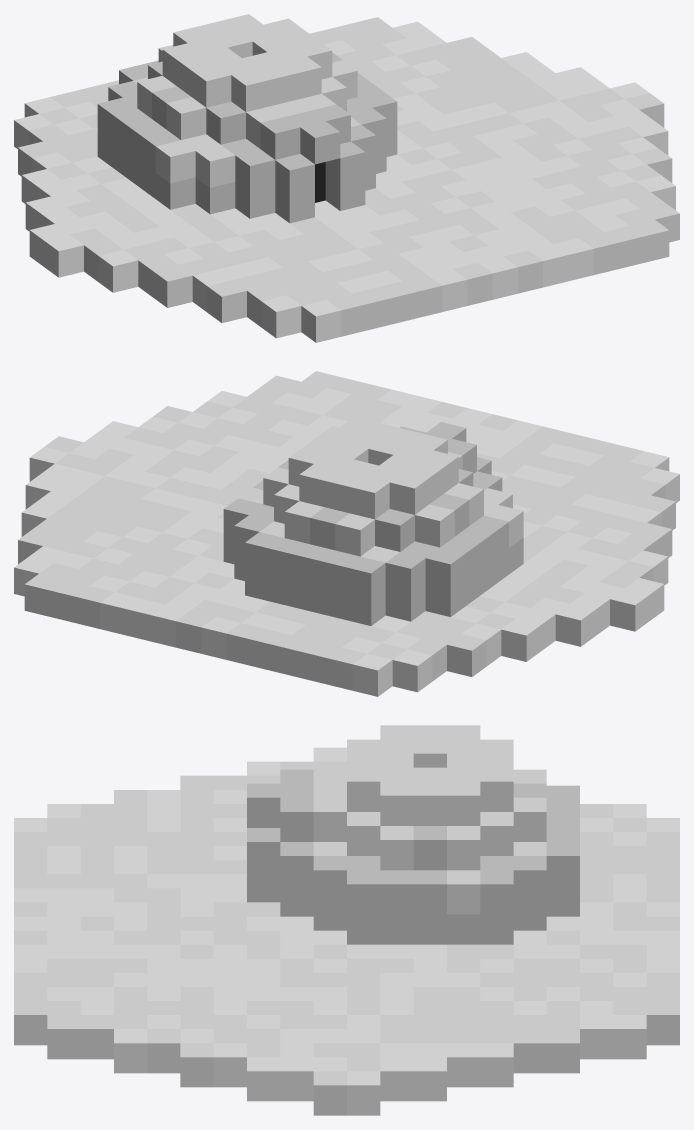
Rendered from overworld-8-snow_igloo.obj.
3 renders of one model, top to bottom at view 1: azimuth 30°, elevation 25°; view 2: azimuth 150°, elevation 25°; view 3: azimuth 270°, elevation 25°, orthographic. The views are drawn at different scales.
Parts seen in each view (by area): view 1: snow_igloo; view 2: snow_igloo; view 3: snow_igloo.
Part boxes in pixels (box(x1,y1,x2,y2)): snow_igloo: box(14, 14, 679, 342); snow_igloo: box(14, 371, 679, 696); snow_igloo: box(14, 725, 679, 1115).
Size of the model in its own units: 2.4 by 0.5 by 2.
1 material, 1 textured.
